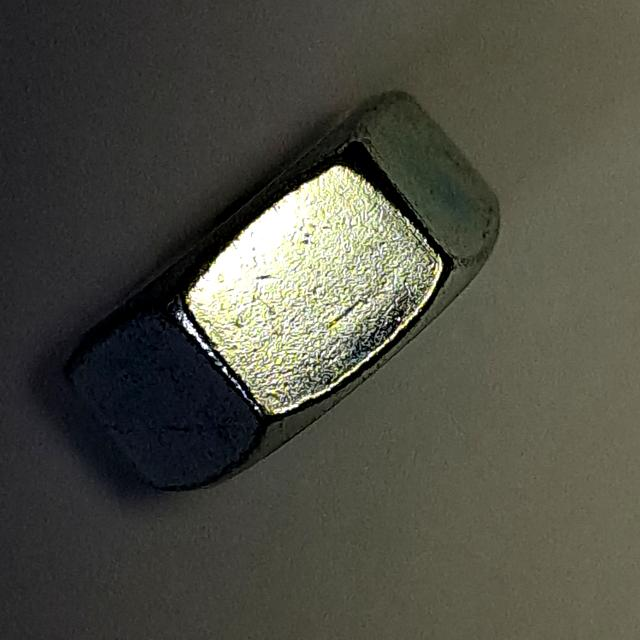Side_Excellent: (58, 81, 518, 506)
